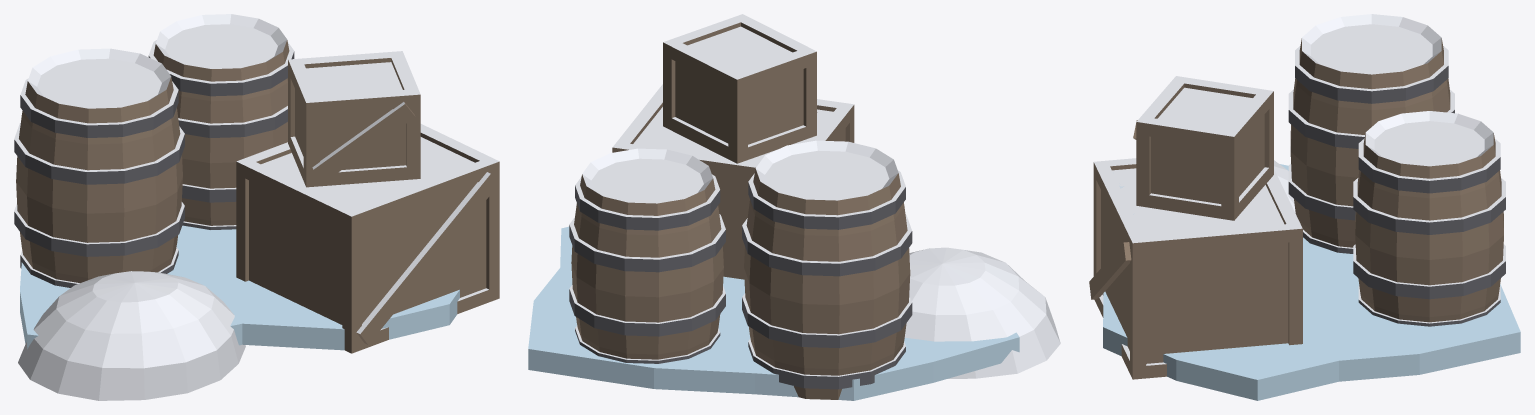
The model's file is PR_Cargas_A.fbx.
3 views of the same model, side by side, from view 1: azimuth 30°, elevation 25°; view 2: azimuth 150°, elevation 25°; view 3: azimuth 270°, elevation 25° (orthographic).
Visible parts, largest first — view 1: PR_Cargas_A; view 2: PR_Cargas_A; view 3: PR_Cargas_A.
Boxes of the visible parts, bbox=[...] form: PR_Cargas_A: bbox=[14, 14, 499, 400]; PR_Cargas_A: bbox=[528, 14, 1060, 400]; PR_Cargas_A: bbox=[1089, 14, 1520, 400].
Bounding box in the file's own units: 2.33 × 1.1 × 1.86.
